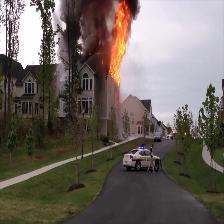fire: (112, 1, 132, 84)
smoke: (63, 0, 110, 58)
